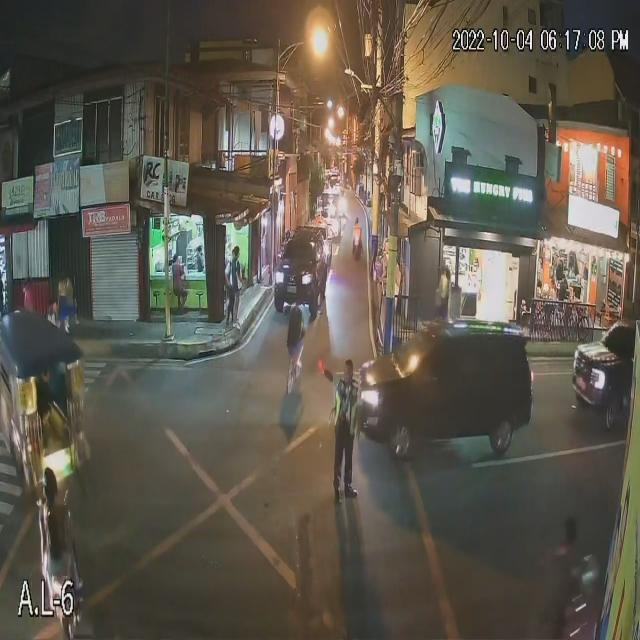motorcycle: (350, 236, 365, 260)
rider: (354, 225, 360, 253)
